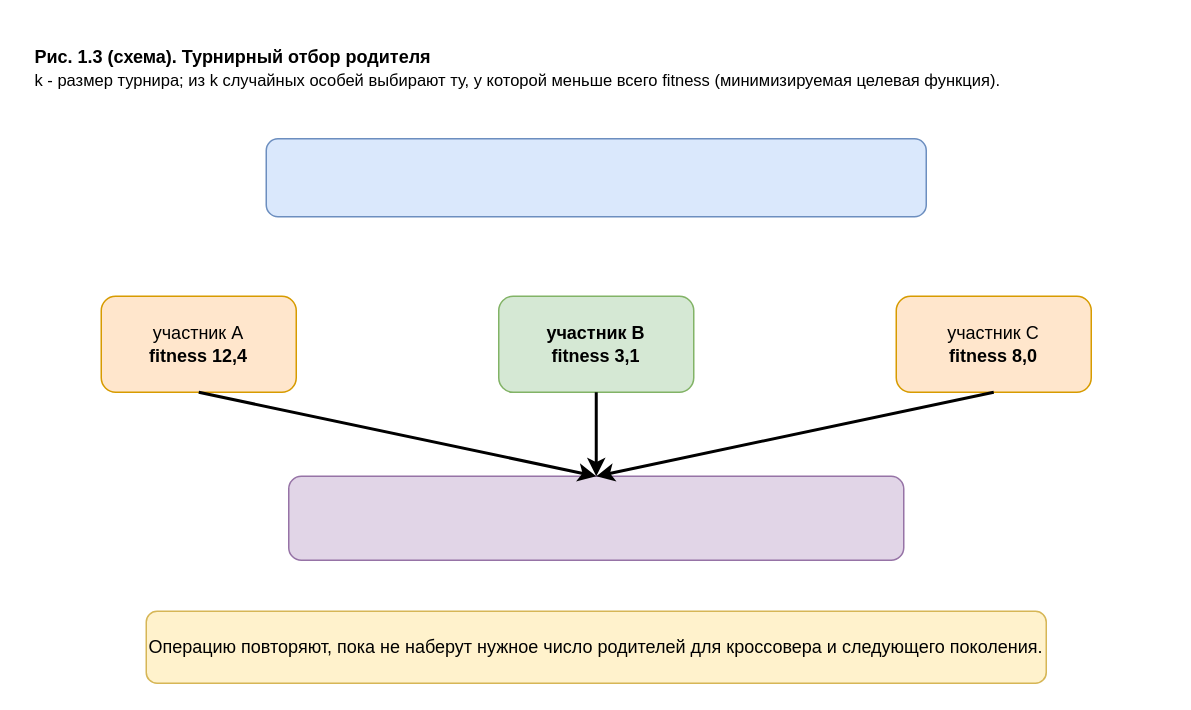
The diagram is 1191 pixels wide and 710 high, and some of its shapes have lost their labels. The shapes that lost their labels are listed below. From the top down, each one's centre as x and y in pixels, then its label:
point (595, 177): 1. Случайно выбрать k особей из популяции Ниже пример при k = 3.
point (595, 517): 2. Родитель - особь с минимальным fitness Победитель примера: участник B .
